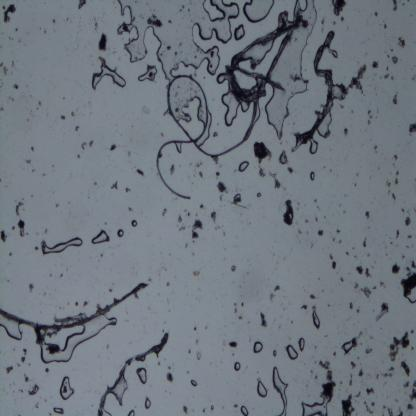Air bubble: (113, 0, 238, 82), (266, 1, 318, 139), (299, 29, 337, 146), (37, 311, 117, 365), (175, 88, 207, 130), (91, 54, 127, 90), (270, 367, 290, 415), (39, 236, 84, 254), (241, 0, 275, 23), (242, 44, 274, 67), (219, 91, 240, 126), (300, 396, 331, 415), (0, 316, 23, 340), (57, 373, 76, 401), (202, 0, 225, 23), (200, 112, 214, 147), (136, 62, 158, 83), (114, 380, 130, 406), (90, 228, 111, 247), (332, 82, 349, 102), (232, 21, 246, 42), (319, 116, 332, 138), (286, 342, 300, 361), (310, 305, 320, 329), (137, 367, 149, 387), (257, 378, 268, 398), (341, 338, 354, 354), (307, 136, 319, 153), (405, 288, 416, 306), (252, 338, 264, 354), (216, 71, 229, 85), (297, 337, 307, 352), (238, 160, 250, 172), (240, 99, 250, 113), (238, 404, 250, 415), (174, 143, 184, 156), (256, 102, 262, 123), (144, 395, 152, 410), (232, 360, 242, 372), (308, 170, 318, 181), (53, 406, 64, 414), (116, 228, 124, 239), (189, 378, 198, 386), (130, 219, 138, 228), (127, 408, 135, 416), (209, 404, 214, 412), (272, 350, 277, 357)
Background material: (318, 358, 338, 399), (346, 59, 368, 95), (252, 139, 272, 177), (388, 331, 410, 361), (400, 268, 416, 295), (281, 198, 295, 228), (375, 300, 391, 325), (340, 392, 356, 416), (189, 219, 205, 241), (146, 12, 164, 30), (330, 0, 347, 19), (0, 3, 16, 23), (399, 359, 411, 378), (268, 171, 281, 188), (97, 32, 108, 52), (362, 399, 376, 414), (16, 219, 27, 237), (359, 285, 374, 298), (278, 148, 288, 167), (402, 211, 412, 229), (27, 383, 39, 397), (320, 13, 328, 34), (14, 199, 23, 217), (259, 312, 268, 330), (328, 251, 337, 269), (383, 366, 395, 379), (410, 377, 416, 403), (390, 261, 401, 275), (406, 120, 416, 135), (389, 52, 399, 66), (366, 109, 374, 126), (107, 141, 118, 153), (216, 182, 227, 194), (226, 339, 238, 350), (76, 1, 88, 12), (232, 193, 242, 206), (5, 362, 14, 376), (396, 35, 405, 49), (364, 387, 376, 397), (122, 148, 134, 158), (391, 0, 400, 13), (20, 349, 28, 363), (92, 17, 100, 31), (371, 58, 379, 72), (393, 169, 400, 185), (406, 401, 416, 412), (209, 209, 216, 224), (0, 62, 8, 75), (363, 266, 371, 279), (315, 228, 325, 238), (299, 301, 309, 311), (360, 236, 368, 248), (22, 371, 30, 383), (0, 229, 7, 242), (111, 179, 119, 190), (166, 372, 174, 383), (347, 374, 354, 386), (392, 92, 398, 106), (195, 350, 202, 362), (169, 162, 175, 176), (349, 361, 358, 370), (365, 345, 373, 355), (80, 140, 88, 150), (210, 157, 220, 165), (176, 214, 183, 225), (364, 209, 371, 220), (182, 403, 189, 414), (409, 258, 416, 269), (192, 269, 201, 277), (164, 42, 172, 51), (357, 368, 364, 378), (268, 292, 275, 302), (184, 207, 191, 217), (35, 100, 42, 110), (342, 126, 348, 137), (28, 281, 34, 292), (398, 405, 404, 416), (356, 329, 362, 340), (356, 264, 362, 275), (82, 299, 90, 307), (198, 202, 206, 210), (137, 169, 145, 177), (230, 264, 236, 274), (88, 138, 94, 148), (403, 380, 409, 390), (44, 364, 50, 374), (338, 273, 344, 283), (217, 194, 224, 202), (91, 179, 98, 187), (287, 166, 294, 174), (75, 152, 82, 160), (349, 300, 354, 311), (394, 229, 399, 240), (390, 192, 396, 201), (310, 291, 316, 300), (7, 96, 16, 102), (353, 336, 358, 346), (194, 160, 200, 168), (372, 145, 378, 153), (378, 282, 386, 288), (178, 226, 186, 232), (54, 200, 60, 208), (212, 130, 218, 138), (208, 51, 216, 57), (410, 73, 416, 81), (274, 284, 280, 292), (12, 82, 18, 90), (388, 407, 394, 415), (386, 180, 392, 188), (234, 302, 238, 314), (74, 124, 80, 132), (352, 280, 358, 288), (124, 186, 130, 194), (298, 225, 302, 236), (60, 114, 66, 121), (256, 191, 262, 198), (126, 206, 133, 212), (26, 157, 32, 164), (215, 224, 221, 231), (338, 378, 344, 385), (354, 392, 361, 398), (384, 73, 390, 80), (198, 172, 205, 178), (374, 8, 378, 18), (162, 208, 167, 216), (166, 365, 172, 371), (406, 234, 412, 240), (221, 231, 227, 237), (70, 109, 76, 115), (392, 154, 398, 160), (323, 332, 329, 338), (353, 254, 359, 260), (354, 354, 360, 360), (233, 402, 238, 409), (201, 407, 206, 414), (314, 216, 319, 223), (390, 74, 395, 81), (12, 224, 16, 232), (346, 249, 350, 257), (364, 253, 372, 257), (44, 226, 48, 234), (74, 300, 78, 308), (30, 146, 35, 152), (216, 171, 221, 177), (331, 351, 337, 356), (355, 308, 360, 314), (339, 105, 345, 110), (14, 26, 19, 32), (34, 246, 40, 251), (382, 404, 388, 409), (238, 315, 243, 321), (313, 376, 318, 382), (187, 348, 192, 354), (372, 284, 376, 291), (342, 207, 346, 214), (305, 217, 309, 224), (401, 206, 405, 213), (156, 360, 161, 365), (108, 287, 113, 292), (98, 251, 103, 256), (385, 53, 390, 58), (387, 191, 392, 196), (0, 105, 4, 111), (410, 344, 414, 350), (332, 236, 335, 244), (336, 228, 340, 234), (332, 20, 336, 26), (340, 16, 344, 22), (316, 205, 320, 211), (376, 372, 379, 379), (185, 242, 188, 249), (389, 240, 393, 245), (405, 244, 410, 248), (59, 274, 63, 279), (401, 254, 405, 259), (401, 2, 406, 6), (314, 345, 318, 350), (310, 244, 314, 249), (382, 24, 386, 29), (42, 172, 46, 177), (242, 301, 245, 307), (53, 18, 56, 24), (390, 48, 394, 52), (166, 282, 170, 286), (338, 239, 342, 243), (350, 110, 354, 114), (186, 370, 190, 374), (290, 320, 294, 324), (317, 275, 320, 280), (413, 207, 416, 212), (193, 326, 196, 331), (323, 215, 326, 220), (392, 162, 395, 167), (354, 183, 357, 188), (411, 328, 414, 333), (356, 172, 358, 178), (406, 0, 410, 3), (386, 66, 388, 72), (10, 250, 12, 255), (327, 304, 330, 307), (352, 247, 355, 250), (314, 198, 316, 202), (196, 341, 198, 345), (45, 30, 47, 34), (386, 253, 388, 256), (52, 165, 54, 168), (322, 291, 324, 293)
Cellulose filter fibre: (0, 280, 149, 331), (225, 13, 305, 100), (97, 331, 170, 414)
Microfibre: (156, 74, 262, 198)
